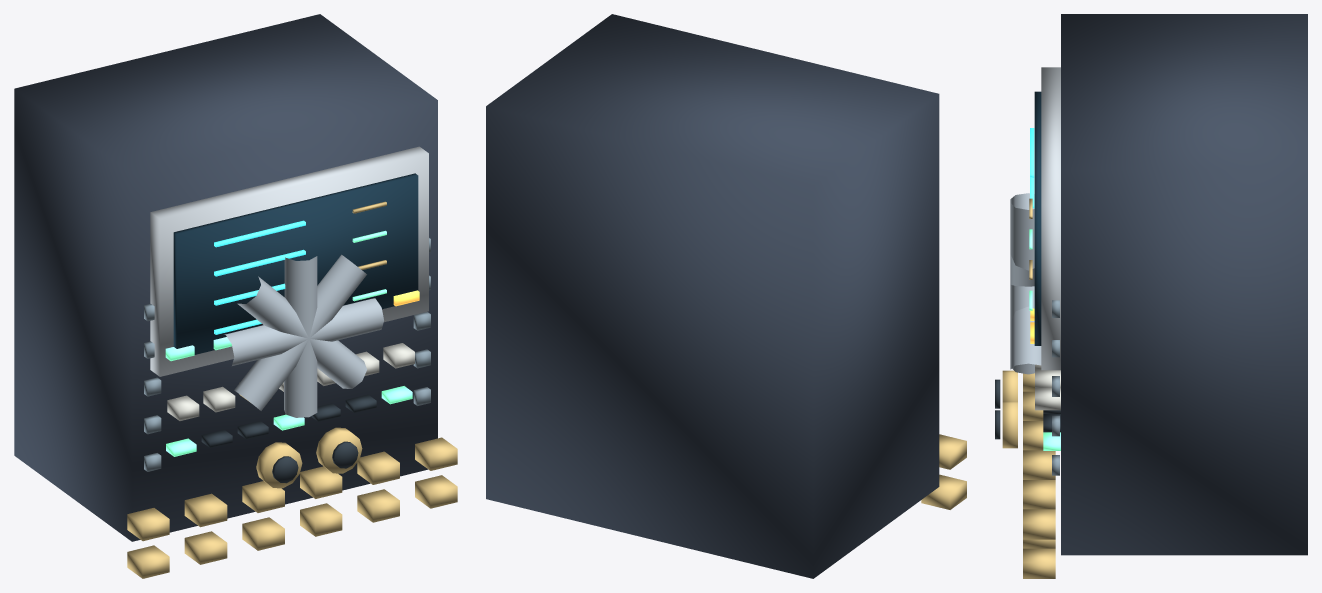
Rendered from 52_L92_DrillThermalManagementUnit.glb.
The picture shows the model from 3 angles, left to right: view 1: azimuth 30°, elevation 25°; view 2: azimuth 150°, elevation 25°; view 3: azimuth 270°, elevation 25°; orthographic projection. The views are drawn at different scales.
Visible parts, largest first — view 1: L92_DrillThermalManagementUni_Part_0000, L92_DrillThermalManagementUni_Part_0002, L92_DrillThermalManagementUni_Part_0011, L92_DrillThermalManagementUni_Part_0004, L92_DrillThermalManagementUni_Part_0001, L92_DrillThermalManagementUni_Part_0006, L92_DrillThermalManagementUni_Part_0008, L92_DrillThermalManagementUni_Part_0003, L92_DrillThermalManagementUni_Part_0007, L92_DrillThermalManagementUni_Part_0005, L92_DrillThermalManagementUni_Part_0012, L92_DrillThermalManagementUni_Part_0014 (+1 smaller); view 2: L92_DrillThermalManagementUni_Part_0000, L92_DrillThermalManagementUni_Part_0004; view 3: L92_DrillThermalManagementUni_Part_0000, L92_DrillThermalManagementUni_Part_0001, L92_DrillThermalManagementUni_Part_0004, L92_DrillThermalManagementUni_Part_0011, L92_DrillThermalManagementUni_Part_0002, L92_DrillThermalManagementUni_Part_0006, L92_DrillThermalManagementUni_Part_0008, L92_DrillThermalManagementUni_Part_0014, L92_DrillThermalManagementUni_Part_0012, L92_DrillThermalManagementUni_Part_0005.
Part boxes in pixels (left/top/right/bottom): L92_DrillThermalManagementUni_Part_0000: left=14, top=14, right=437, bottom=541; L92_DrillThermalManagementUni_Part_0002: left=173, top=173, right=418, bottom=354; L92_DrillThermalManagementUni_Part_0011: left=224, top=254, right=383, bottom=417; L92_DrillThermalManagementUni_Part_0004: left=127, top=201, right=457, bottom=578; L92_DrillThermalManagementUni_Part_0001: left=150, top=146, right=428, bottom=376; L92_DrillThermalManagementUni_Part_0006: left=167, top=343, right=414, bottom=420; L92_DrillThermalManagementUni_Part_0008: left=144, top=238, right=430, bottom=471; L92_DrillThermalManagementUni_Part_0003: left=214, top=220, right=305, bottom=334; L92_DrillThermalManagementUni_Part_0007: left=201, top=394, right=376, bottom=448; L92_DrillThermalManagementUni_Part_0005: left=166, top=230, right=412, bottom=456; L92_DrillThermalManagementUni_Part_0012: left=256, top=442, right=302, bottom=488; L92_DrillThermalManagementUni_Part_0014: left=316, top=427, right=362, bottom=473; L92_DrillThermalManagementUni_Part_0000: left=486, top=14, right=939, bottom=578; L92_DrillThermalManagementUni_Part_0004: left=921, top=434, right=966, bottom=509; L92_DrillThermalManagementUni_Part_0000: left=1061, top=14, right=1307, bottom=555; L92_DrillThermalManagementUni_Part_0001: left=1041, top=67, right=1060, bottom=370; L92_DrillThermalManagementUni_Part_0004: left=1023, top=198, right=1055, bottom=578; L92_DrillThermalManagementUni_Part_0011: left=1010, top=193, right=1041, bottom=374; L92_DrillThermalManagementUni_Part_0002: left=1034, top=91, right=1041, bottom=345; L92_DrillThermalManagementUni_Part_0006: left=1035, top=364, right=1060, bottom=410; L92_DrillThermalManagementUni_Part_0008: left=1052, top=300, right=1059, bottom=475; L92_DrillThermalManagementUni_Part_0014: left=1002, top=401, right=1017, bottom=448; L92_DrillThermalManagementUni_Part_0012: left=1002, top=370, right=1017, bottom=401; L92_DrillThermalManagementUni_Part_0005: left=1029, top=229, right=1060, bottom=450.
Bounding box in the file's own units: 1.05 × 1.24 × 0.862.
